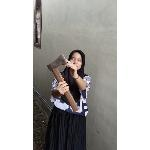Kapak: (45, 54, 81, 115)
